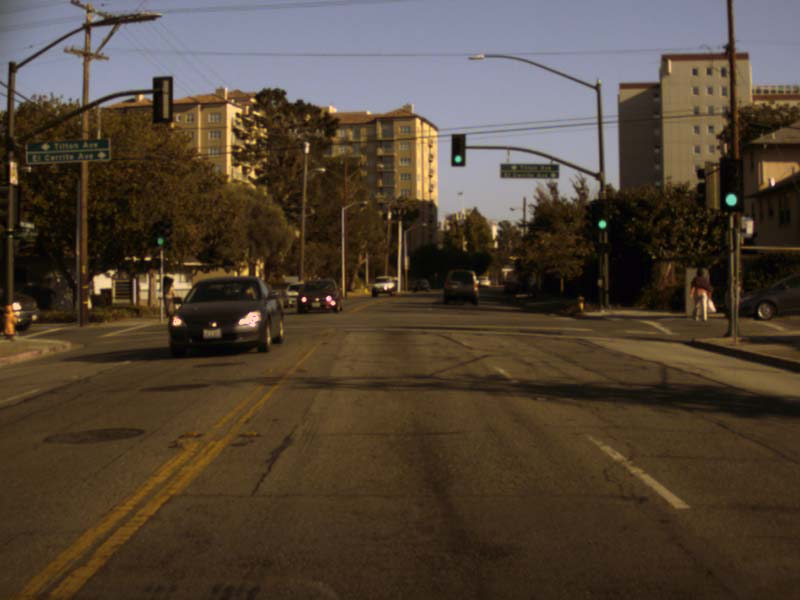Green: (719, 159, 743, 210), (451, 134, 464, 166), (594, 200, 607, 231), (154, 219, 165, 246)
